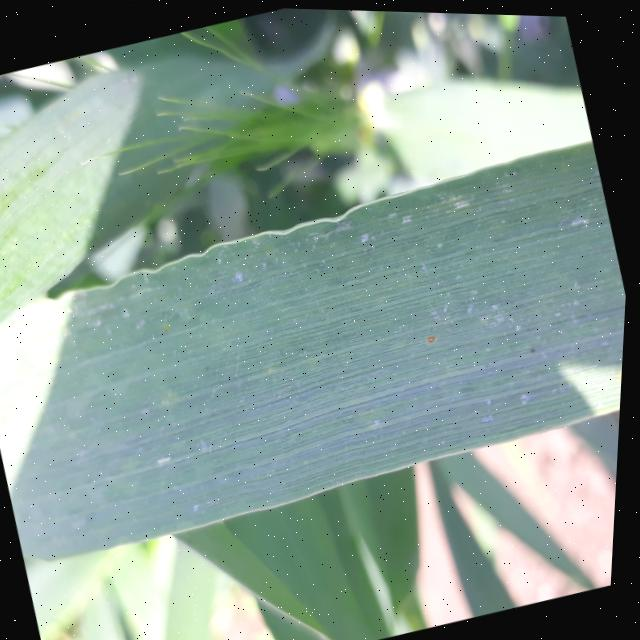orang_rust: (404, 294, 474, 364), (599, 302, 628, 411), (150, 297, 197, 340)
